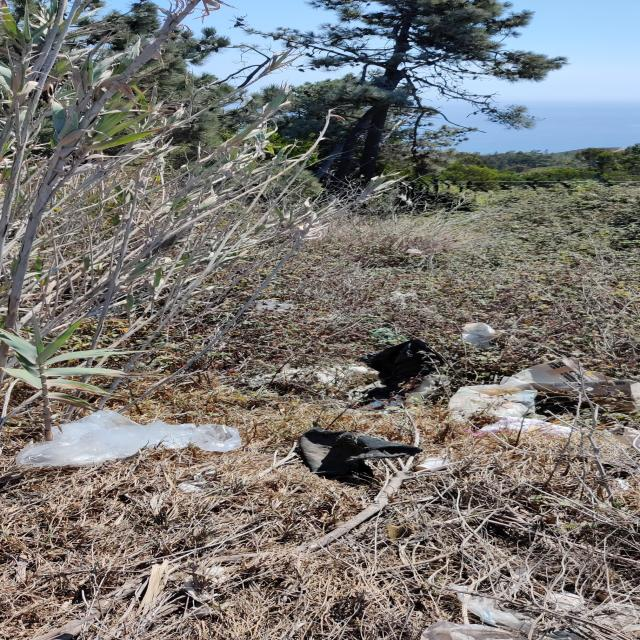litter: (452, 357, 633, 433), (24, 421, 238, 464), (287, 424, 421, 480), (429, 587, 539, 639), (458, 322, 500, 343)
